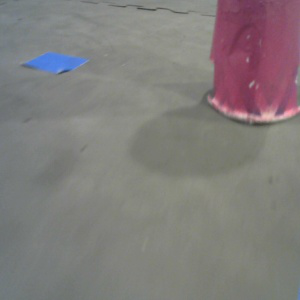right: (207, 1, 300, 124)
